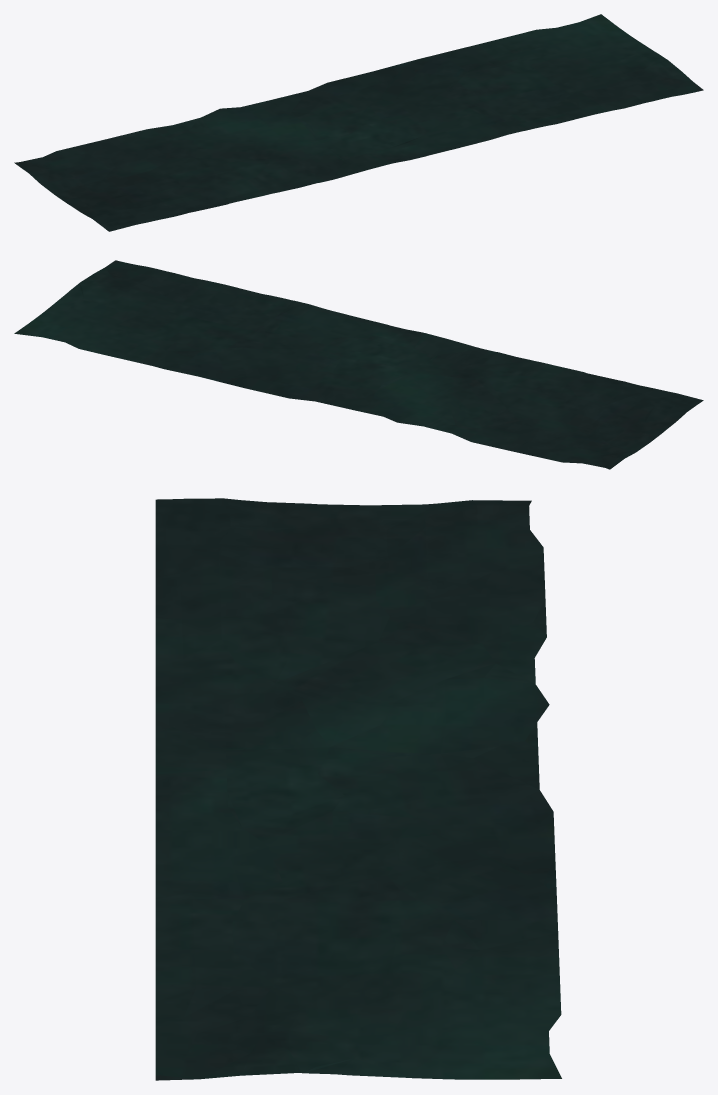
3 views of the same model, one above another, from view 1: azimuth 30°, elevation 25°; view 2: azimuth 150°, elevation 25°; view 3: azimuth 270°, elevation 25° (orthographic). The views are drawn at different scales.
Size of the model in its own units: 104 by 0.822 by 31.26.
Materials: 1 (1 with a texture image).
